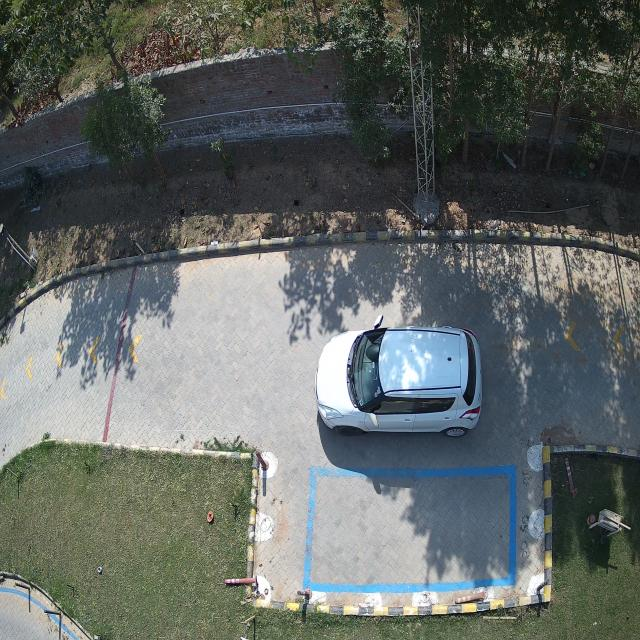car: (316, 327, 482, 435)
